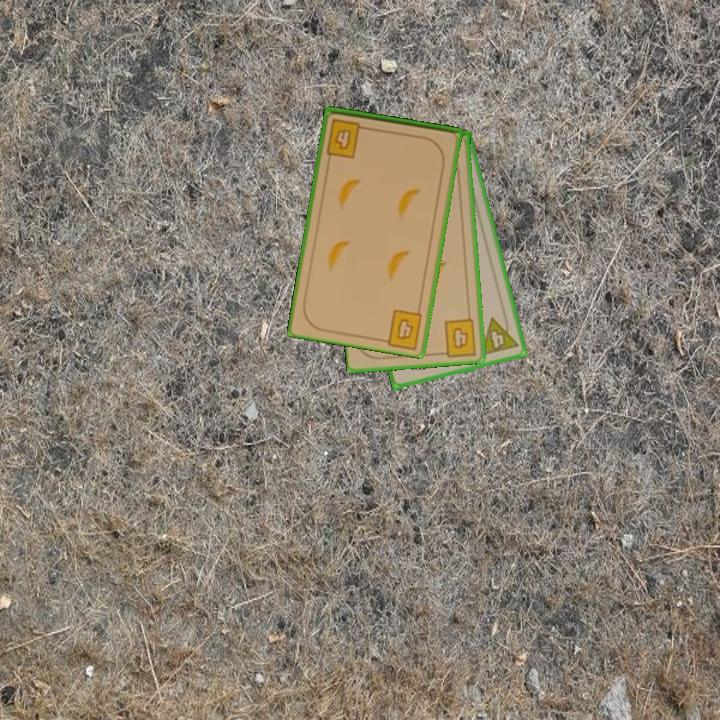4b: (322, 115, 371, 160), (436, 315, 479, 358), (393, 315, 417, 343)
4p: (477, 311, 521, 359)
